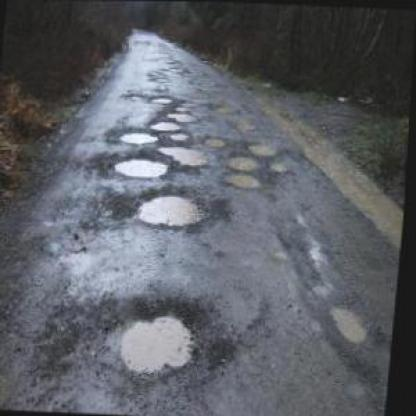pothole: (112, 297, 211, 376), (133, 187, 212, 229), (111, 151, 175, 180), (331, 302, 376, 341), (158, 143, 214, 168), (223, 169, 265, 190), (121, 128, 164, 146), (229, 154, 263, 172), (247, 140, 281, 155), (166, 110, 201, 122), (154, 118, 184, 130), (207, 134, 230, 146), (152, 93, 174, 104)
